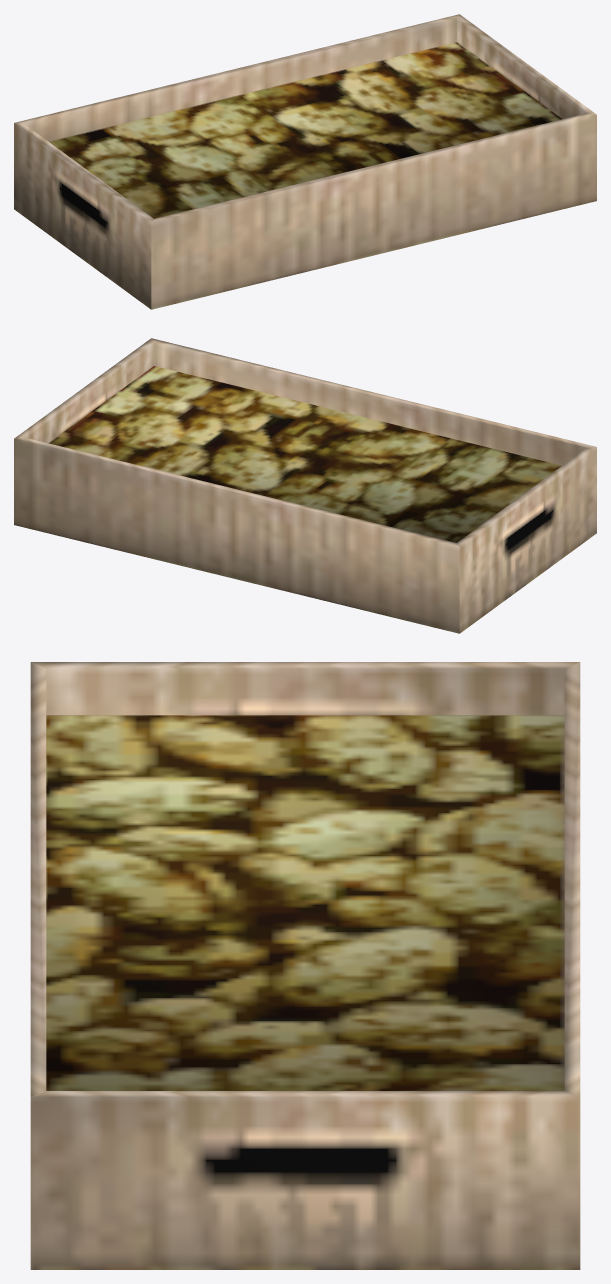
File: VegBox02_Potatoes.glb
The picture shows the model from 3 angles, top to bottom: view 1: azimuth 30°, elevation 25°; view 2: azimuth 150°, elevation 25°; view 3: azimuth 270°, elevation 25°; orthographic projection. The views are drawn at different scales.
Parts seen in each view (by area): view 1: VEGBOX02_POTATOES; view 2: VEGBOX02_POTATOES; view 3: VEGBOX02_POTATOES.
Part boxes in pixels (x1,y1,x2,y2): VEGBOX02_POTATOES: [14, 14, 596, 309]; VEGBOX02_POTATOES: [14, 338, 596, 633]; VEGBOX02_POTATOES: [30, 662, 580, 1269].
Bounding box in the file's own units: 1.2 × 0.222 × 0.64.
1 material, 1 textured.
